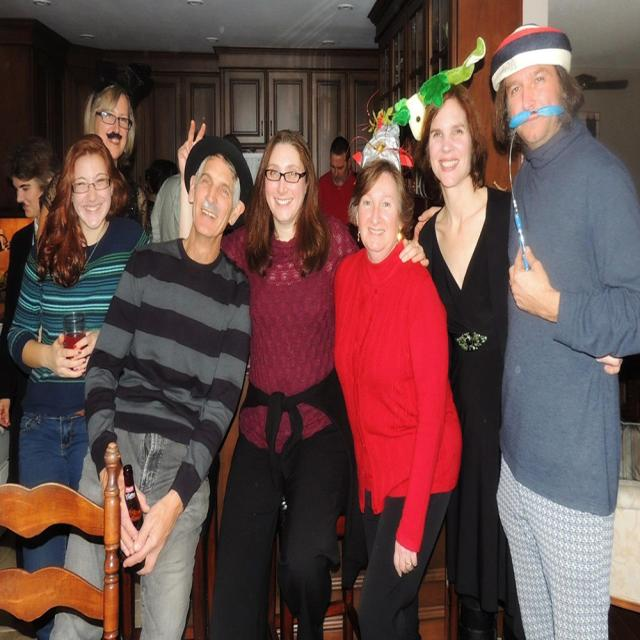body: (412, 22, 640, 639), (174, 113, 430, 639), (412, 33, 626, 640), (44, 130, 258, 639), (3, 133, 156, 639), (329, 106, 465, 639), (0, 138, 67, 488), (45, 79, 150, 233), (316, 135, 360, 238)
